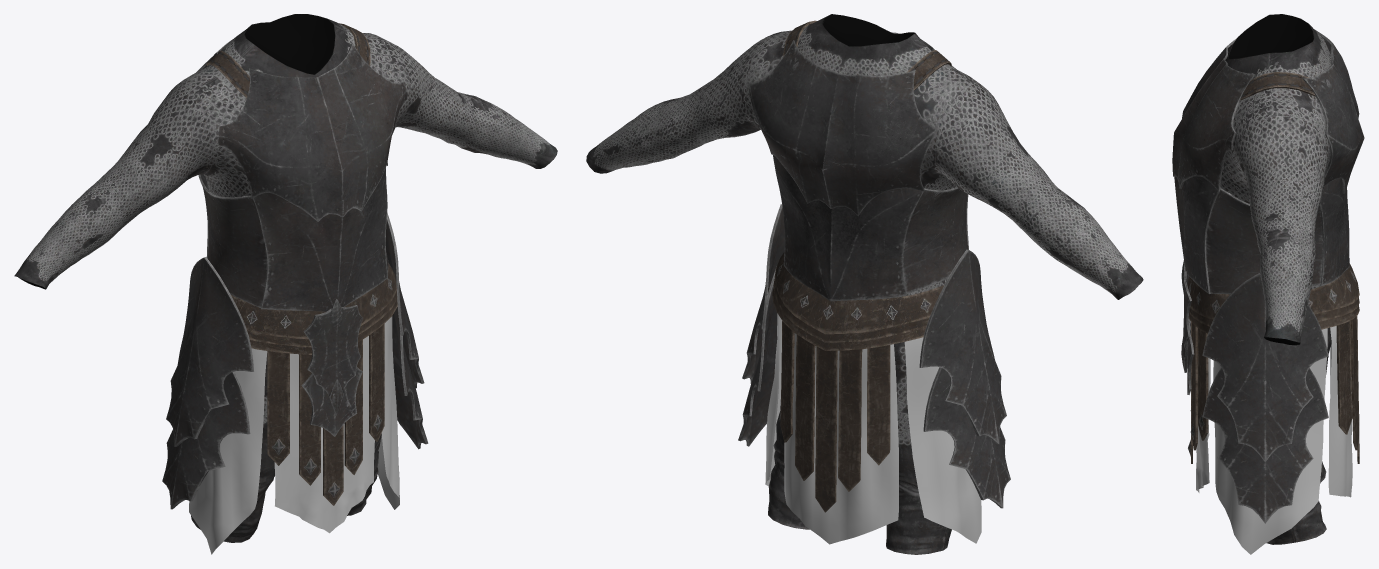
The model's file is sk_uruk_mordor_chainmail_elite_d1.fbx.
The picture shows the model from 3 angles, left to right: view 1: azimuth 30°, elevation 25°; view 2: azimuth 150°, elevation 25°; view 3: azimuth 270°, elevation 25°; orthographic projection. The views are drawn at different scales.
Visible parts, largest first — view 1: sk_uruk_mordor_chainmail_elite_d1.4, sk_uruk_mordor_chainmail_elite_d1.0, sk_uruk_mordor_chainmail_elite_d1.2, sk_uruk_mordor_chainmail_elite_d1.1, sk_uruk_mordor_chainmail_elite_d1.3; view 2: sk_uruk_mordor_chainmail_elite_d1.4, sk_uruk_mordor_chainmail_elite_d1.0, sk_uruk_mordor_chainmail_elite_d1.1, sk_uruk_mordor_chainmail_elite_d1.2; view 3: sk_uruk_mordor_chainmail_elite_d1.4, sk_uruk_mordor_chainmail_elite_d1.0, sk_uruk_mordor_chainmail_elite_d1.1, sk_uruk_mordor_chainmail_elite_d1.2, sk_uruk_mordor_chainmail_elite_d1.3.
Part boxes in pixels (x1,y1,x2,y2): sk_uruk_mordor_chainmail_elite_d1.4: [162, 39, 428, 509]; sk_uruk_mordor_chainmail_elite_d1.0: [14, 14, 557, 542]; sk_uruk_mordor_chainmail_elite_d1.2: [189, 316, 399, 554]; sk_uruk_mordor_chainmail_elite_d1.1: [206, 23, 397, 505]; sk_uruk_mordor_chainmail_elite_d1.3: [301, 299, 362, 436]; sk_uruk_mordor_chainmail_elite_d1.4: [738, 32, 1010, 508]; sk_uruk_mordor_chainmail_elite_d1.0: [586, 14, 1143, 554]; sk_uruk_mordor_chainmail_elite_d1.1: [772, 20, 951, 512]; sk_uruk_mordor_chainmail_elite_d1.2: [765, 313, 981, 544]; sk_uruk_mordor_chainmail_elite_d1.4: [1172, 29, 1364, 523]; sk_uruk_mordor_chainmail_elite_d1.0: [1220, 14, 1331, 544]; sk_uruk_mordor_chainmail_elite_d1.1: [1187, 72, 1359, 463]; sk_uruk_mordor_chainmail_elite_d1.2: [1196, 326, 1352, 554]; sk_uruk_mordor_chainmail_elite_d1.3: [1181, 260, 1194, 394].
Bounding box in the file's own units: 1.37 × 0.4386 × 1.21.
